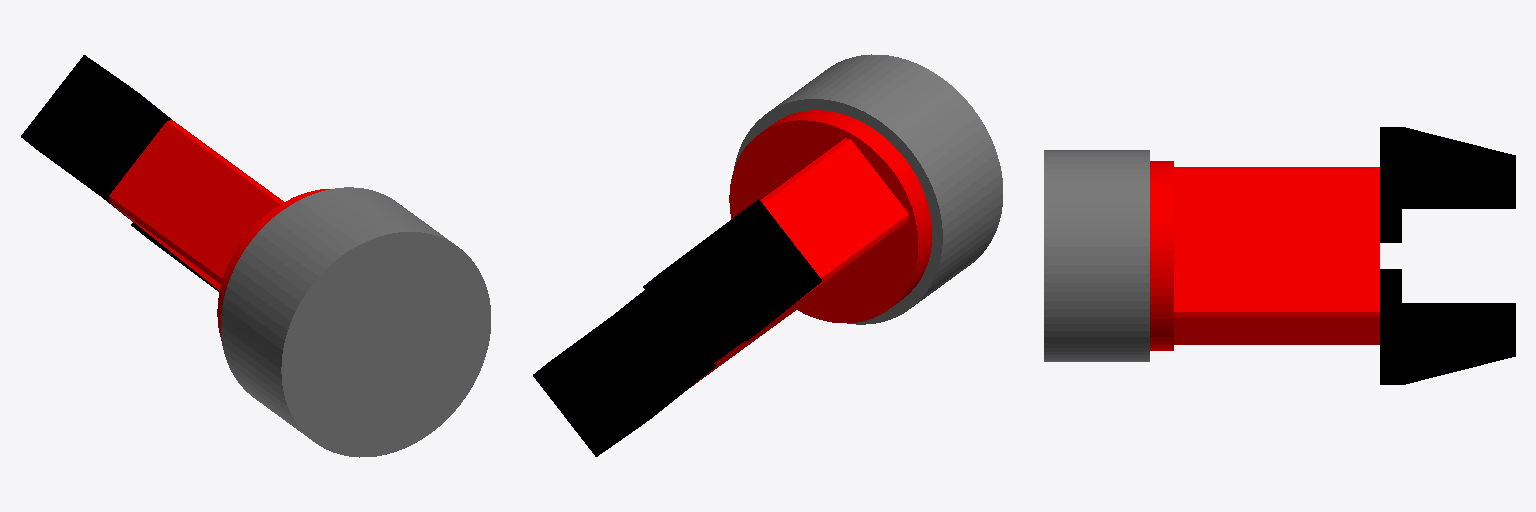
robot.urdf — ur3_workplace:
<?xml version="1.0" ?>
<!-- =================================================================================== -->
<!-- |    This document was autogenerated by xacro from ur3.xacro                      | -->
<!-- |    EDITING THIS FILE BY HAND IS NOT RECOMMENDED                                 | -->
<!-- =================================================================================== -->
<robot name="ur3_workplace" xmlns:xacro="http://www.ros.org/wiki/xacro">
  <gazebo>
    <plugin filename="libgazebo_ros_control.so" name="ros_control">
      <!--robotNamespace>/</robotNamespace-->
      <!--robotSimType>gazebo_ros_control/DefaultRobotHWSim</robotSimType-->
    </plugin>
    <!--
    <plugin name="gazebo_ros_power_monitor_controller" filename="libgazebo_ros_power_monitor.so">
      <alwaysOn>true</alwaysOn>
      <updateRate>1.0</updateRate>
      <timeout>5</timeout>
      <powerStateTopic>power_state</powerStateTopic>
      <powerStateRate>10.0</powerStateRate>
      <fullChargeCapacity>87.78</fullChargeCapacity>     
      <dischargeRate>-474</dischargeRate>
      <chargeRate>525</chargeRate>
      <dischargeVoltage>15.52</dischargeVoltage>
      <chargeVoltage>16.41</chargeVoltage>
    </plugin>
-->
  </gazebo>
  <!--
  Author: [author]
-->
  <!-- measured from model -->
  <link name="base_link">
    <visual>
      <geometry>
        <mesh filename="package://ur_description/meshes/ur3/visual/base.dae"/>
      </geometry>
      <material name="LightGrey">
        <color rgba="0.7 0.7 0.7 1.0"/>
      </material>
    </visual>
    <collision>
      <geometry>
        <mesh filename="package://ur_description/meshes/ur3/collision/base.stl"/>
      </geometry>
    </collision>
    <inertial>
      <mass value="2.0"/>
      <origin rpy="0 0 0" xyz="0.0 0.0 0.0"/>
      <inertia ixx="0.0030531654454" ixy="0.0" ixz="0.0" iyy="0.0030531654454" iyz="0.0" izz="0.005625"/>
    </inertial>
  </link>
  <joint name="shoulder_pan_joint" type="revolute">
    <parent link="base_link"/>
    <child link="shoulder_link"/>
    <origin rpy="0.0 0.0 0.0" xyz="0.0 0.0 0.1519"/>
    <axis xyz="0 0 1"/>
    <limit effort="330.0" lower="-6.28318530718" upper="6.28318530718" velocity="2.16"/>
    <dynamics damping="0.0" friction="0.0"/>
  </joint>
  <link name="shoulder_link">
    <visual>
      <geometry>
        <mesh filename="package://ur_description/meshes/ur3/visual/shoulder.dae"/>
      </geometry>
      <material name="LightGrey">
        <color rgba="0.7 0.7 0.7 1.0"/>
      </material>
    </visual>
    <collision>
      <geometry>
        <mesh filename="package://ur_description/meshes/ur3/collision/shoulder.stl"/>
      </geometry>
    </collision>
    <inertial>
      <mass value="2.0"/>
      <origin rpy="0 0 0" xyz="0.0 0.0 0.0"/>
      <inertia ixx="0.0080931634294" ixy="0.0" ixz="0.0" iyy="0.0080931634294" iyz="0.0" izz="0.005625"/>
    </inertial>
  </link>
  <joint name="shoulder_lift_joint" type="revolute">
    <parent link="shoulder_link"/>
    <child link="upper_arm_link"/>
    <origin rpy="0.0 1.57079632679 0.0" xyz="0.0 0.1198 0.0"/>
    <axis xyz="0 1 0"/>
    <limit effort="330.0" lower="-6.28318530718" upper="6.28318530718" velocity="2.16"/>
    <dynamics damping="0.0" friction="0.0"/>
  </joint>
  <link name="upper_arm_link">
    <visual>
      <geometry>
        <mesh filename="package://ur_description/meshes/ur3/visual/upperarm.dae"/>
      </geometry>
      <material name="LightGrey">
        <color rgba="0.7 0.7 0.7 1.0"/>
      </material>
    </visual>
    <collision>
      <geometry>
        <mesh filename="package://ur_description/meshes/ur3/collision/upperarm.stl"/>
      </geometry>
    </collision>
    <inertial>
      <mass value="3.42"/>
      <origin rpy="0 0 0" xyz="0.0 0.0 0.121825"/>
      <inertia ixx="0.0217284832211" ixy="0.0" ixz="0.0" iyy="0.0217284832211" iyz="0.0" izz="0.00961875"/>
    </inertial>
  </link>
  <joint name="elbow_joint" type="revolute">
    <parent link="upper_arm_link"/>
    <child link="forearm_link"/>
    <origin rpy="0.0 0.0 0.0" xyz="0.0 -0.0925 0.24365"/>
    <axis xyz="0 1 0"/>
    <limit effort="150.0" lower="-3.14159265359" upper="3.14159265359" velocity="3.15"/>
    <dynamics damping="0.0" friction="0.0"/>
  </joint>
  <link name="forearm_link">
    <visual>
      <geometry>
        <mesh filename="package://ur_description/meshes/ur3/visual/forearm.dae"/>
      </geometry>
      <material name="LightGrey">
        <color rgba="0.7 0.7 0.7 1.0"/>
      </material>
    </visual>
    <collision>
      <geometry>
        <mesh filename="package://ur_description/meshes/ur3/collision/forearm.stl"/>
      </geometry>
    </collision>
    <inertial>
      <mass value="1.26"/>
      <origin rpy="0 0 0" xyz="0.0 0.0 0.106625"/>
      <inertia ixx="0.00654680644378" ixy="0.0" ixz="0.0" iyy="0.00654680644378" iyz="0.0" izz="0.00354375"/>
    </inertial>
  </link>
  <joint name="wrist_1_joint" type="revolute">
    <parent link="forearm_link"/>
    <child link="wrist_1_link"/>
    <origin rpy="0.0 1.57079632679 0.0" xyz="0.0 0.0 0.21325"/>
    <axis xyz="0 1 0"/>
    <limit effort="54.0" lower="-6.28318530718" upper="6.28318530718" velocity="3.2"/>
    <dynamics damping="0.0" friction="0.0"/>
  </joint>
  <link name="wrist_1_link">
    <visual>
      <geometry>
        <mesh filename="package://ur_description/meshes/ur3/visual/wrist1.dae"/>
      </geometry>
      <material name="LightGrey">
        <color rgba="0.7 0.7 0.7 1.0"/>
      </material>
    </visual>
    <collision>
      <geometry>
        <mesh filename="package://ur_description/meshes/ur3/collision/wrist1.stl"/>
      </geometry>
    </collision>
    <inertial>
      <mass value="0.8"/>
      <origin rpy="0 0 0" xyz="0.0 0.08505 0.0"/>
      <inertia ixx="0.002084999166" ixy="0.0" ixz="0.0" iyy="0.002084999166" iyz="0.0" izz="0.00225"/>
    </inertial>
  </link>
  <joint name="wrist_2_joint" type="revolute">
    <parent link="wrist_1_link"/>
    <child link="wrist_2_link"/>
    <origin rpy="0.0 0.0 0.0" xyz="0.0 0.08505 0.0"/>
    <axis xyz="0 0 1"/>
    <limit effort="54.0" lower="-6.28318530718" upper="6.28318530718" velocity="3.2"/>
    <dynamics damping="0.0" friction="0.0"/>
  </joint>
  <link name="wrist_2_link">
    <visual>
      <geometry>
        <mesh filename="package://ur_description/meshes/ur3/visual/wrist2.dae"/>
      </geometry>
      <material name="LightGrey">
        <color rgba="0.7 0.7 0.7 1.0"/>
      </material>
    </visual>
    <collision>
      <geometry>
        <mesh filename="package://ur_description/meshes/ur3/collision/wrist2.stl"/>
      </geometry>
    </collision>
    <inertial>
      <mass value="0.8"/>
      <origin rpy="0 0 0" xyz="0.0 0.0 0.08535"/>
      <inertia ixx="0.002084999166" ixy="0.0" ixz="0.0" iyy="0.002084999166" iyz="0.0" izz="0.00225"/>
    </inertial>
  </link>
  <joint name="wrist_3_joint" type="revolute">
    <parent link="wrist_2_link"/>
    <child link="wrist_3_link"/>
    <origin rpy="0.0 0.0 0.0" xyz="0.0 0.0 0.08535"/>
    <axis xyz="0 1 0"/>
    <limit effort="54.0" lower="-6.28318530718" upper="6.28318530718" velocity="3.2"/>
    <dynamics damping="0.0" friction="0.0"/>
  </joint>
  <link name="wrist_3_link">
    <visual>
      <geometry>
        <mesh filename="package://ur_description/meshes/ur3/visual/wrist3.dae"/>
      </geometry>
      <material name="LightGrey">
        <color rgba="0.7 0.7 0.7 1.0"/>
      </material>
    </visual>
    <collision>
      <geometry>
        <mesh filename="package://ur_description/meshes/ur3/collision/wrist3.stl"/>
      </geometry>
    </collision>
    <inertial>
      <mass value="0.35"/>
      <origin rpy="1.57079632679 0 0" xyz="0.0 0.0619 0.0"/>
      <inertia ixx="0.00013626661216" ixy="0.0" ixz="0.0" iyy="0.00013626661216" iyz="0.0" izz="0.0001792"/>
    </inertial>
  </link>
  <joint name="ee_fixed_joint" type="fixed">
    <parent link="wrist_3_link"/>
    <child link="ee_link"/>
    <origin rpy="0.0 0.0 1.57079632679" xyz="0.0 0.0819 0.0"/>
  </joint>
  <link name="ee_link">
    <collision>
      <geometry>
        <box size="0.01 0.01 0.01"/>
      </geometry>
      <origin rpy="0 0 0" xyz="-0.01 0 0"/>
    </collision>
  </link>
  <transmission name="shoulder_pan_trans">
    <type>transmission_interface/SimpleTransmission</type>
    <joint name="shoulder_pan_joint">
      <hardwareInterface>hardware_interface/PositionJointInterface</hardwareInterface>
    </joint>
    <actuator name="shoulder_pan_motor">
      <mechanicalReduction>1</mechanicalReduction>
    </actuator>
  </transmission>
  <transmission name="shoulder_lift_trans">
    <type>transmission_interface/SimpleTransmission</type>
    <joint name="shoulder_lift_joint">
      <hardwareInterface>hardware_interface/PositionJointInterface</hardwareInterface>
    </joint>
    <actuator name="shoulder_lift_motor">
      <mechanicalReduction>1</mechanicalReduction>
    </actuator>
  </transmission>
  <transmission name="elbow_trans">
    <type>transmission_interface/SimpleTransmission</type>
    <joint name="elbow_joint">
      <hardwareInterface>hardware_interface/PositionJointInterface</hardwareInterface>
    </joint>
    <actuator name="elbow_motor">
      <mechanicalReduction>1</mechanicalReduction>
    </actuator>
  </transmission>
  <transmission name="wrist_1_trans">
    <type>transmission_interface/SimpleTransmission</type>
    <joint name="wrist_1_joint">
      <hardwareInterface>hardware_interface/PositionJointInterface</hardwareInterface>
    </joint>
    <actuator name="wrist_1_motor">
      <mechanicalReduction>1</mechanicalReduction>
    </actuator>
  </transmission>
  <transmission name="wrist_2_trans">
    <type>transmission_interface/SimpleTransmission</type>
    <joint name="wrist_2_joint">
      <hardwareInterface>hardware_interface/PositionJointInterface</hardwareInterface>
    </joint>
    <actuator name="wrist_2_motor">
      <mechanicalReduction>1</mechanicalReduction>
    </actuator>
  </transmission>
  <transmission name="wrist_3_trans">
    <type>transmission_interface/SimpleTransmission</type>
    <joint name="wrist_3_joint">
      <hardwareInterface>hardware_interface/PositionJointInterface</hardwareInterface>
    </joint>
    <actuator name="wrist_3_motor">
      <mechanicalReduction>1</mechanicalReduction>
    </actuator>
  </transmission>
  <gazebo reference="shoulder_link">
    <selfCollide>true</selfCollide>
  </gazebo>
  <gazebo reference="upper_arm_link">
    <selfCollide>true</selfCollide>
  </gazebo>
  <gazebo reference="forearm_link">
    <selfCollide>true</selfCollide>
  </gazebo>
  <gazebo reference="wrist_1_link">
    <selfCollide>true</selfCollide>
  </gazebo>
  <gazebo reference="wrist_3_link">
    <selfCollide>true</selfCollide>
  </gazebo>
  <gazebo reference="wrist_2_link">
    <selfCollide>true</selfCollide>
  </gazebo>
  <gazebo reference="ee_link">
    <selfCollide>true</selfCollide>
  </gazebo>
  <!-- ROS base_link to UR 'Base' Coordinates transform -->
  <link name="base"/>
  <joint name="base_link-base_fixed_joint" type="fixed">
    <!-- NOTE: this rotation is only needed as long as base_link itself is
                 not corrected wrt the real robot (ie: rotated over 180
                 degrees)
      -->
    <origin rpy="0 0 -3.14159265359" xyz="0 0 0"/>
    <parent link="base_link"/>
    <child link="base"/>
  </joint>
  <!-- Frame coincident with all-zeros TCP on UR controller -->
  <link name="tool0"/>
  <joint name="wrist_3_link-tool0_fixed_joint" type="fixed">
    <origin rpy="-1.57079632679 0 0" xyz="0 0.0819 0"/>
    <parent link="wrist_3_link"/>
    <child link="tool0"/>
  </joint>
  <link name="base_link_camera"/>
  <material name="aluminum">
    <color rgba="0.5 0.5 0.5 1"/>
  </material>
  <!-- camera body, with origin at bottom screw mount -->
  <joint name="camera_joint" type="fixed">
    <origin rpy="0 0 0" xyz="0 0 0"/>
    <parent link="base_link_camera"/>
    <child link="camera_bottom_screw_frame"/>
  </joint>
  <link name="camera_bottom_screw_frame"/>
  <joint name="camera_link_joint" type="fixed">
    <origin rpy="0 0 0" xyz="0 0.0175 0.0125"/>
    <parent link="camera_bottom_screw_frame"/>
    <child link="camera_link"/>
  </joint>
  <link name="camera_link">
    <visual>
      <origin rpy="1.57079632679 0 1.57079632679" xyz="0.0149 -0.0175 0"/>
      <geometry>
        <!-- <box size="${d435_cam_width} ${d435_cam_height} ${d435_cam_depth}"/> -->
        <mesh filename="package://realsense2_description/meshes/d435.dae"/>
        <!--<mesh filename="package://realsense2_description/meshes/d435/d435.dae" />-->
      </geometry>
      <material name="aluminum"/>
    </visual>
    <collision>
      <origin rpy="0 0 0" xyz="0 -0.0175 0"/>
      <geometry>
        <box size="0.02505 0.09 0.025"/>
      </geometry>
    </collision>
    <inertial>
      <!-- The following are not reliable values, and should not be used for modeling -->
      <mass value="0.564"/>
      <origin xyz="0 0 0"/>
      <inertia ixx="0.003881243" ixy="0.0" ixz="0.0" iyy="0.000498940" iyz="0.0" izz="0.003879257"/>
    </inertial>
  </link>
  <!-- camera depth joints and links -->
  <joint name="camera_depth_joint" type="fixed">
    <origin rpy="0 0 0" xyz="0 0 0"/>
    <parent link="camera_link"/>
    <child link="camera_depth_frame"/>
  </joint>
  <link name="camera_depth_frame"/>
  <joint name="camera_depth_optical_joint" type="fixed">
    <origin rpy="-1.57079632679 0 -1.57079632679" xyz="0 0 0"/>
    <parent link="camera_depth_frame"/>
    <child link="camera_depth_optical_frame"/>
  </joint>
  <link name="camera_depth_optical_frame"/>
  <!-- camera left IR joints and links -->
  <joint name="camera_left_ir_joint" type="fixed">
    <origin rpy="0 0 0" xyz="0 0.0 0"/>
    <parent link="camera_depth_frame"/>
    <child link="camera_left_ir_frame"/>
  </joint>
  <link name="camera_left_ir_frame"/>
  <joint name="camera_left_ir_optical_joint" type="fixed">
    <origin rpy="-1.57079632679 0 -1.57079632679" xyz="0 0 0"/>
    <parent link="camera_left_ir_frame"/>
    <child link="camera_left_ir_optical_frame"/>
  </joint>
  <link name="camera_left_ir_optical_frame"/>
  <!-- camera right IR joints and links -->
  <joint name="camera_right_ir_joint" type="fixed">
    <origin rpy="0 0 0" xyz="0 -0.05 0"/>
    <parent link="camera_depth_frame"/>
    <child link="camera_right_ir_frame"/>
  </joint>
  <link name="camera_right_ir_frame"/>
  <joint name="camera_right_ir_optical_joint" type="fixed">
    <origin rpy="-1.57079632679 0 -1.57079632679" xyz="0 0 0"/>
    <parent link="camera_right_ir_frame"/>
    <child link="camera_right_ir_optical_frame"/>
  </joint>
  <link name="camera_right_ir_optical_frame"/>
  <!-- camera color joints and links -->
  <joint name="camera_color_joint" type="fixed">
    <origin rpy="0 0 0" xyz="0 0.015 0"/>
    <parent link="camera_depth_frame"/>
    <child link="camera_color_frame"/>
  </joint>
  <link name="camera_color_frame"/>
  <joint name="camera_color_optical_joint" type="fixed">
    <origin rpy="-1.57079632679 0 -1.57079632679" xyz="0 0 0"/>
    <parent link="camera_color_frame"/>
    <child link="camera_color_optical_frame"/>
  </joint>
  <link name="camera_color_optical_frame"/>
  <gazebo reference="camera_color_frame">
    <sensor name="camera" type="depth">
      <update_rate>20</update_rate>
      <camera>
        <horizontal_fov>1.047198</horizontal_fov>
        <image>
          <width>640</width>
          <height>480</height>
          <format>R8G8B8</format>
        </image>
        <clip>
          <near>0.05</near>
          <far>3</far>
        </clip>
      </camera>
      <plugin filename="libgazebo_ros_openni_kinect.so" name="camera_plugin">
        <baseline>0</baseline>
        <alwaysOn>true</alwaysOn>
        <!-- Keep this zero, update_rate in the parent <sensor> tag will control the frame rate. -->
        <updateRate>0.0</updateRate>
        <cameraName>camera_ir</cameraName>
        <imageTopicName>/camera/color/image_raw</imageTopicName>
        <cameraInfoTopicName>/camera/color/camera_info</cameraInfoTopicName>
        <depthImageTopicName>/camera/depth/image_raw</depthImageTopicName>
        <depthImageCameraInfoTopicName>/camera/depth/camera_info</depthImageCameraInfoTopicName>
        <pointCloudTopicName>/camera/depth/color/points</pointCloudTopicName>
        <frameName>camera_color_optical_frame</frameName>
        <pointCloudCutoff>0.001</pointCloudCutoff>
        <pointCloudCutoffMax>1.8</pointCloudCutoffMax>
        <distortionK1>0</distortionK1>
        <distortionK2>0</distortionK2>
        <distortionK3>0</distortionK3>
        <distortionT1>0</distortionT1>
        <distortionT2>0</distortionT2>
        <CxPrime>0</CxPrime>
        <Cx>0</Cx>
        <Cy>0</Cy>
        <focalLength>0</focalLength>
        <hackBaseline>0</hackBaseline>
      </plugin>
    </sensor>
  </gazebo>
  <link name="world"/>
  <link name="table">
    <visual>
      <geometry>
        <mesh filename="package://ur3_description/meshes/stul.stl" scale="0.001 0.001 0.001"/>
      </geometry>
      <origin rpy="0 -1.57079632679 0" xyz="0.47 -0.18 -0.51"/>
      <material name="grey">
        <color rgba="0.5 0.5 0.5 1"/>
      </material>
    </visual>
    <collision>
      <geometry>
        <box size="0.56 0.76 0.6"/>
      </geometry>
      <origin rpy="0 0 0" xyz="0.205 0.185 -0.295"/>
    </collision>
  </link>
  <joint name="world_to_table" type="fixed">
    <parent link="world"/>
    <child link="table"/>
    <origin rpy="0 0 0" xyz="0 0 0.61"/>
  </joint>
  <joint name="table_to_robot" type="fixed">
    <parent link="table"/>
    <child link="base_link"/>
    <origin rpy="0 0 0" xyz="0 0 0"/>
  </joint>
  <joint name="table_to_camera" type="fixed">
    <parent link="table"/>
    <child link="base_link_camera"/>
    <origin rpy="0 0.523598775598 -1.57079632679" xyz="0.165 0.94 0.55"/>
  </joint>
  <link name="force_sensor">
    <visual>
      <geometry>
        <mesh filename="package://ur3_description/meshes/force_sensor.stl" scale="0.001 0.001 0.001"/>
      </geometry>
      <material name="grey">
        <color rgba="0.5 0.5 0.5 1"/>
      </material>
      <origin rpy="1.57079632679 0 0" xyz="0 0 0"/>
    </visual>
    <collision>
      <geometry>
        <mesh filename="package://ur3_description/meshes/force_sensor.stl" scale="0.001 0.001 0.001"/>
      </geometry>
      <origin rpy="1.57079632679 0 0" xyz="0 0 0"/>
    </collision>
  </link>
  <link name="effector_body">
    <visual>
      <geometry>
        <mesh filename="package://ur3_description/meshes/effector_body.stl" scale="0.001 0.001 0.001"/>
      </geometry>
      <material name="red">
        <color rgba="1 0 0 1"/>
      </material>
      <origin rpy="1.57079632679 0 0" xyz="0 0 0"/>
    </visual>
    <collision>
      <geometry>
        <mesh filename="package://ur3_description/meshes/effector_body.stl" scale="0.001 0.001 0.001"/>
      </geometry>
      <origin rpy="1.57079632679 0 0" xyz="0 0 0"/>
    </collision>
  </link>
  <link name="left_jaw">
    <visual>
      <geometry>
        <mesh filename="package://ur3_description/meshes/jaw.stl" scale="0.001 0.001 0.001"/>
      </geometry>
      <material name="black">
        <color rgba="0 0 0 1"/>
      </material>
      <origin rpy="3.14159265359 0 1.57079632679" xyz="0 0 0"/>
    </visual>
    <collision>
      <geometry>
        <mesh filename="package://ur3_description/meshes/jaw.stl" scale="0.001 0.001 0.001"/>
        <!-- <box size="0.03 0.03 0.045"/> -->
      </geometry>
      <origin rpy="3.14159265359 0 1.57079632679" xyz="0 0 0"/>
    </collision>
  </link>
  <link name="right_jaw">
    <visual>
      <geometry>
        <mesh filename="package://ur3_description/meshes/jaw.stl" scale="0.001 0.001 0.001"/>
      </geometry>
      <material name="black">
        <color rgba="0 0 0 1"/>
      </material>
      <origin rpy="3.14159265359 0 1.57079632679" xyz="0 0 0"/>
    </visual>
    <collision>
      <geometry>
        <!-- <box size="0.03 0.03 0.045"/> -->
        <mesh filename="package://ur3_description/meshes/jaw.stl" scale="0.001 0.001 0.001"/>
      </geometry>
      <origin rpy="3.14159265359 0 1.57079632679" xyz="0 0 0"/>
    </collision>
  </link>
  <joint name="FT_to_tip" type="fixed">
    <parent link="ee_link"/>
    <child link="force_sensor"/>
    <origin rpy="0 1.57079632679 0" xyz="0 0 0"/>
  </joint>
  <joint name="Effector_to_FT" type="fixed">
    <parent link="force_sensor"/>
    <child link="effector_body"/>
    <origin rpy="0 0 0" xyz="0 0 0.035"/>
  </joint>
  <!--<joint name="leftjaw_to_effector" type="prismatic">-->
  <joint name="leftjaw_to_effector" type="fixed">
    <!--  <axis xyz="0 1 0"/>
  <limit effort="1000.0" lower="0.01" upper="0" velocity="0.5"/>-->
    <parent link="effector_body"/>
    <child link="left_jaw"/>
    <origin rpy="0 0 0" xyz="0 0 0.076"/>
  </joint>
  <!--<joint name="rightjaw_to_effector" type="prismatic">-->
  <joint name="rightjaw_to_effector" type="fixed">
    <!--  <axis xyz="0 1 0"/>
  <limit effort="1000.0" lower="0.01" upper="0" velocity="0.5"/> -->
    <parent link="effector_body"/>
    <child link="right_jaw"/>
    <origin rpy="0 0 3.14159265359" xyz="0 0 0.076"/>
  </joint>
  <link name="camera_points_link"/>
  <joint name="camera_points_joint" type="fixed">
    <origin rpy="0 1.57 0" xyz="0 0 0"/>
    <parent link="base_link_camera"/>
    <child link="camera_points_link"/>
  </joint>
  <link name="top_wall">
    <!-- <visual>
      <geometry>
        <box size="0.75 0.9 0.1"/>
      </geometry>
      <material name="black">
        <color rgba="0 0 0 1" />
      </material>
    </visual> -->
    <collision>
      <geometry>
        <box size="0.75 0.9 0.1"/>
      </geometry>
    </collision>
  </link>
  <joint name="top_wall_joint" type="fixed">
    <origin rpy="0 0 0" xyz="0.2 0.18 0.75"/>
    <parent link="table"/>
    <child link="top_wall"/>
  </joint>
  <link name="back_wall">
    <!-- <visual>
      <geometry>
        <box size="0.75 0.1 ${limit_wall_height}"/>
      </geometry>
      <material name="black">
        <color rgba="0 0 0 1" />
      </material>
    </visual> -->
    <collision>
      <geometry>
        <box size="0.75 0.1 1.2"/>
      </geometry>
    </collision>
  </link>
  <joint name="back_wall_joint" type="fixed">
    <origin rpy="0 0 0" xyz="0.2 -0.32 0.1"/>
    <parent link="table"/>
    <child link="back_wall"/>
  </joint>
  <link name="left_wall">
    <!-- <visual>
      <geometry>
        <box size="0.1 0.9 ${limit_wall_height}"/>
      </geometry>
      <material name="black">
        <color rgba="0 0 0 1" />
      </material>
    </visual> -->
    <collision>
      <geometry>
        <box size="0.1 0.9 1.2"/>
      </geometry>
    </collision>
  </link>
  <joint name="left_wall_joint" type="fixed">
    <origin rpy="0 0 0" xyz="-0.22 0.18 0.1"/>
    <parent link="table"/>
    <child link="left_wall"/>
  </joint>
</robot>

--- Render facts (derived) ---
Views: 3 orthographic renders of the robot side by side, from view 1: azimuth 30°, elevation 25°; view 2: azimuth 150°, elevation 25°; view 3: azimuth 270°, elevation 25°.
Robot: ur3_workplace — 31 links, 30 joints (6 revolute, 24 fixed); root link world; default pose: all joints at 0.
Visible links, largest first — view 1: force_sensor, effector_body, left_jaw; view 2: effector_body, force_sensor, left_jaw, right_jaw; view 3: effector_body, force_sensor, left_jaw, right_jaw.
Link boxes in pixels (<box>): force_sensor: <box>221,187,490,457</box>; effector_body: <box>109,120,329,340</box>; left_jaw: <box>21,55,171,224</box>; effector_body: <box>690,110,931,387</box>; force_sensor: <box>734,54,1002,324</box>; left_jaw: <box>643,199,821,368</box>; right_jaw: <box>533,290,715,456</box>; effector_body: <box>1150,161,1379,350</box>; force_sensor: <box>1044,150,1149,361</box>; left_jaw: <box>1380,127,1515,242</box>; right_jaw: <box>1380,269,1515,384</box>.
Size in the robot's own frame: 0.0778 by 0.156 by 0.0778 metres.
Meshes: 12 distinct files referenced, 4 mesh visuals loaded (3 binary STL); not drawn: 9 (reference not matched to a file when rendering).